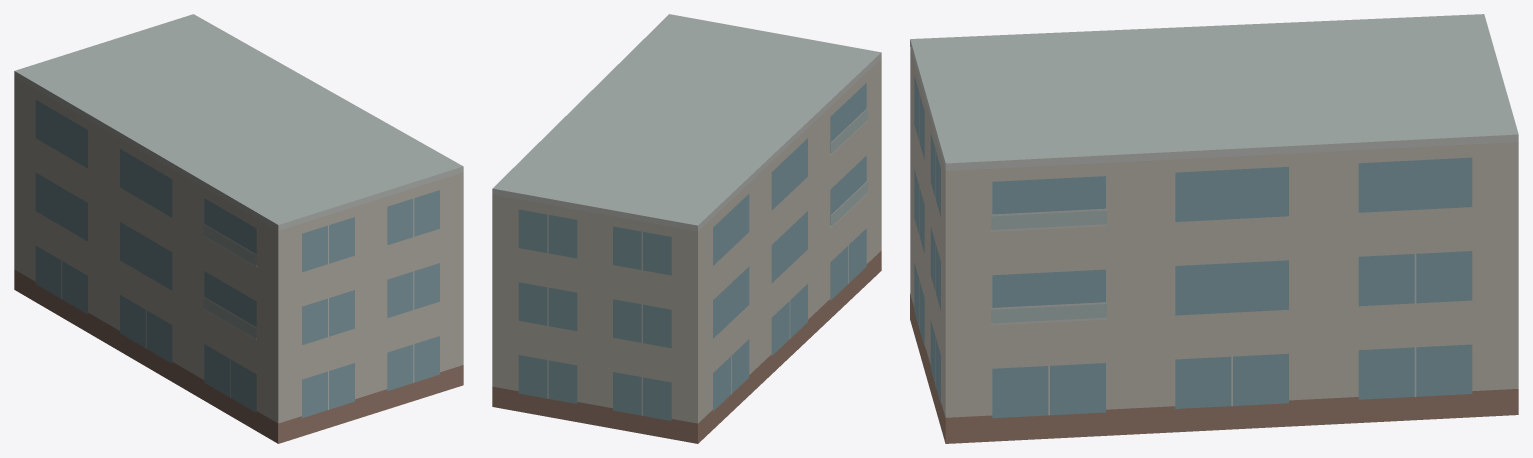
File: survey-upis-32704614.glb
3 renders of one model, left to right at view 1: azimuth 30°, elevation 25°; view 2: azimuth 150°, elevation 25°; view 3: azimuth 270°, elevation 25°, orthographic. The views are drawn at different scales.
Visible parts, largest first — view 1: survey-upis-32704614.tmp; view 2: survey-upis-32704614.tmp; view 3: survey-upis-32704614.tmp.
Part boxes in pixels (x1,y1,x2,y2): survey-upis-32704614.tmp: (14, 14, 463, 443); survey-upis-32704614.tmp: (492, 14, 881, 443); survey-upis-32704614.tmp: (910, 14, 1518, 443).
Bounding box in the file's own units: 10.47 × 9.15 × 18.01.
